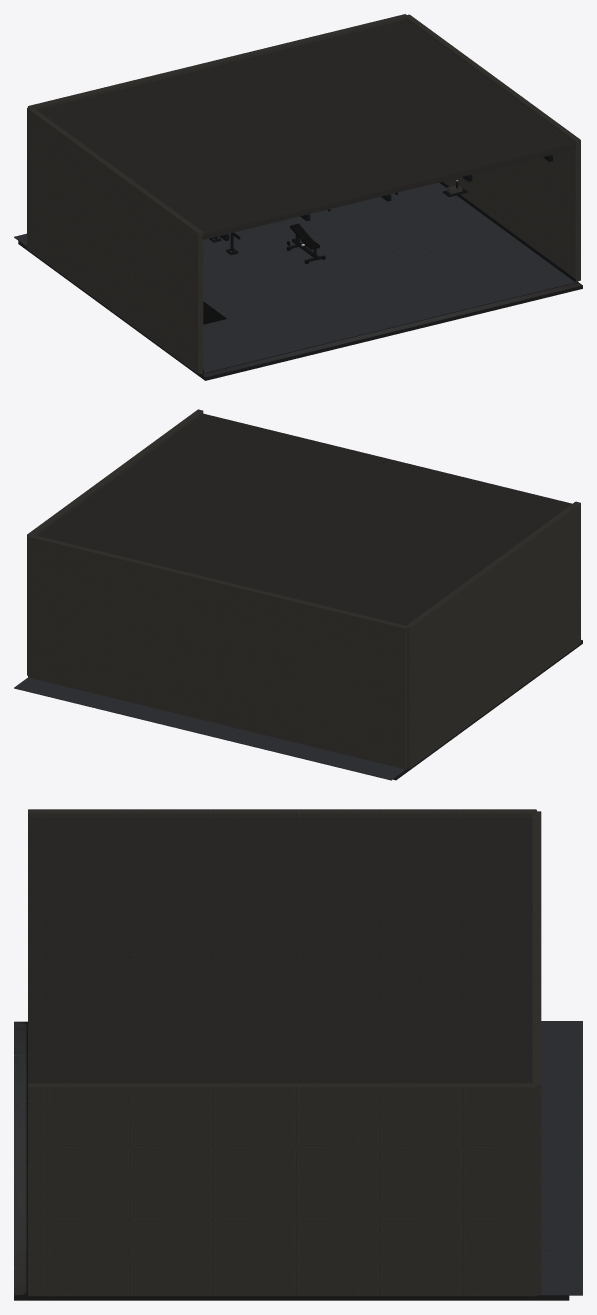
The model's file is studio.glb.
The picture shows the model from 3 angles, top to bottom: view 1: azimuth 30°, elevation 25°; view 2: azimuth 150°, elevation 25°; view 3: azimuth 270°, elevation 25°; orthographic projection. The views are drawn at different scales.
Visible parts, largest first — view 1: Room_Textured ceiling concrete, Room_Speckled recycled rubber, Room_Charcoal cast concrete, Room_Tile joints, Room_Powder coated graphite; view 2: Room_Charcoal cast concrete, Room_Textured ceiling concrete, Room_Speckled recycled rubber; view 3: Room_Textured ceiling concrete, Room_Charcoal cast concrete, Room_Speckled recycled rubber, Room_Tile joints.
Part boxes in pixels (x1=…): Room_Textured ceiling concrete: x1=37, y1=20, x2=575, y2=239; Room_Speckled recycled rubber: x1=14, y1=182, x2=577, y2=373; Room_Charcoal cast concrete: x1=27, y1=14, x2=580, y2=373; Room_Tile joints: x1=18, y1=236, x2=582, y2=380; Room_Powder coated graphite: x1=203, y1=155, x2=575, y2=372; Room_Charcoal cast concrete: x1=27, y1=409, x2=580, y2=769; Room_Textured ceiling concrete: x1=37, y1=413, x2=572, y2=625; Room_Speckled recycled rubber: x1=14, y1=677, x2=407, y2=780; Room_Textured ceiling concrete: x1=28, y1=817, x2=532, y2=1083; Room_Charcoal cast concrete: x1=28, y1=809, x2=541, y2=1296; Room_Speckled recycled rubber: x1=537, y1=1021, x2=582, y2=1295; Room_Tile joints: x1=14, y1=1021, x2=569, y2=1300.
Bounding box in the file's own units: 14.2 × 5.14 × 12.3.
Materials: 25 (7 with a texture image).
